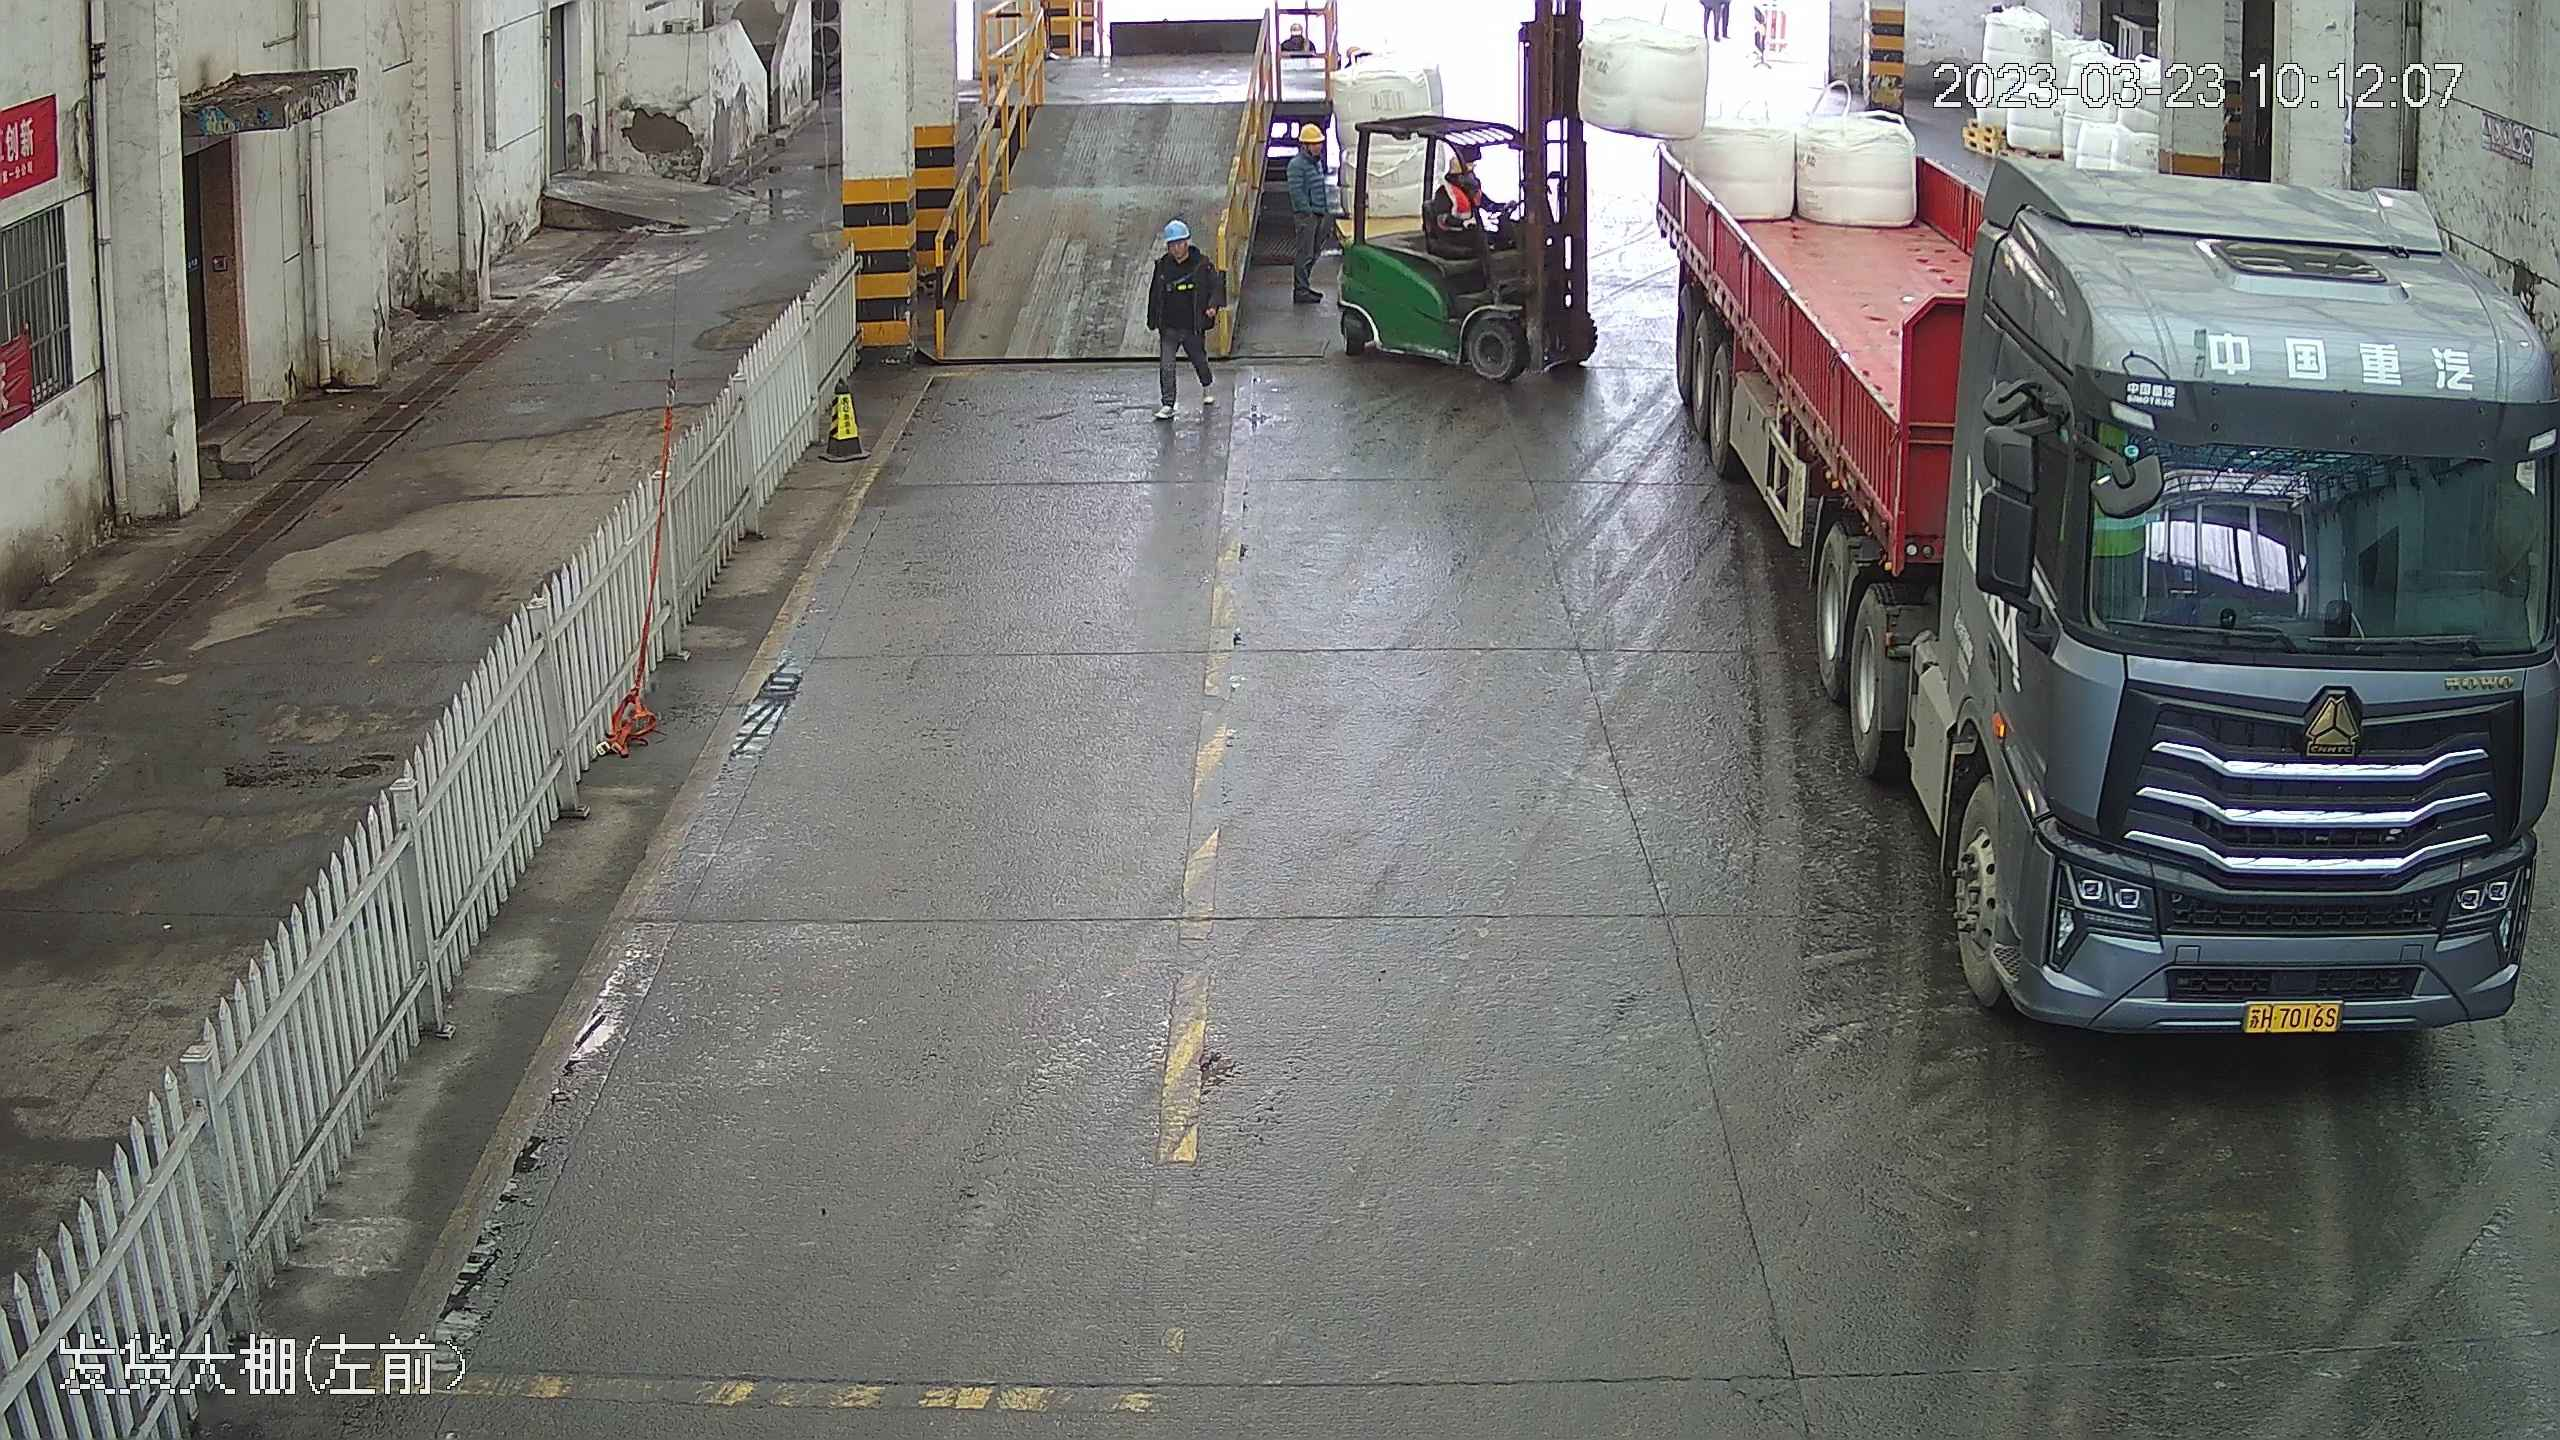head: (1151, 220, 1208, 279), (1286, 122, 1331, 183), (1437, 151, 1483, 210)
helmet: (1445, 150, 1474, 175), (1294, 123, 1324, 147), (1165, 219, 1192, 239)
people: (1146, 216, 1214, 425), (1281, 122, 1337, 327), (1432, 146, 1509, 275)
truck: (1650, 50, 2550, 1070)
